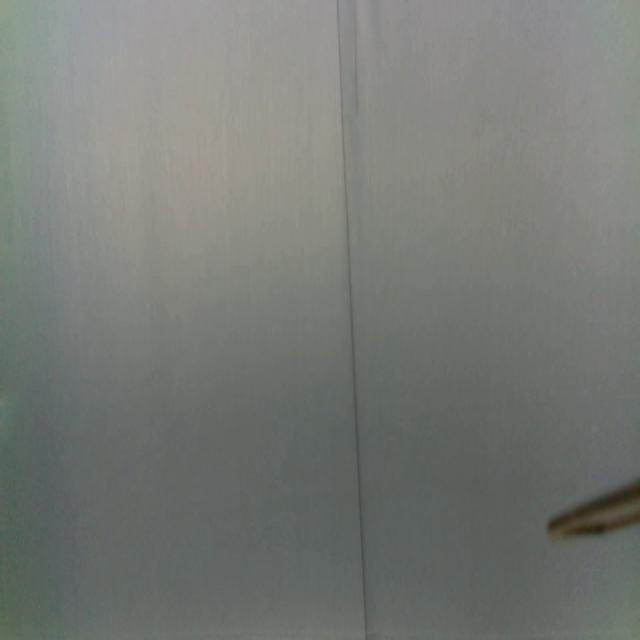crease: (332, 0, 369, 640), (352, 0, 362, 118)
